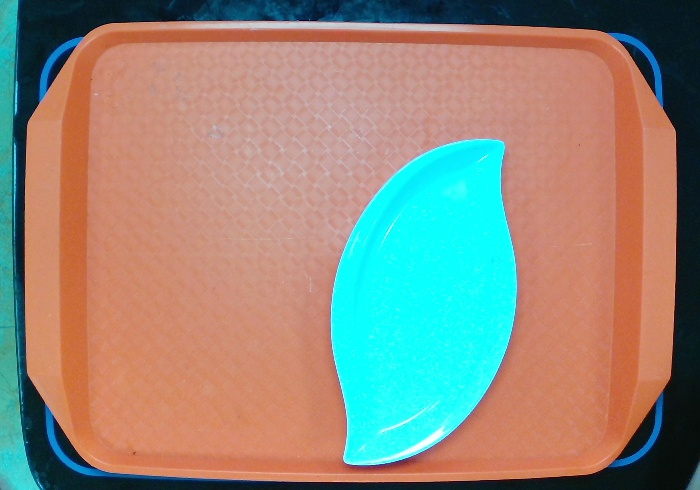RJxy-Jian_Jiao_Pan: (326, 136, 523, 470)
